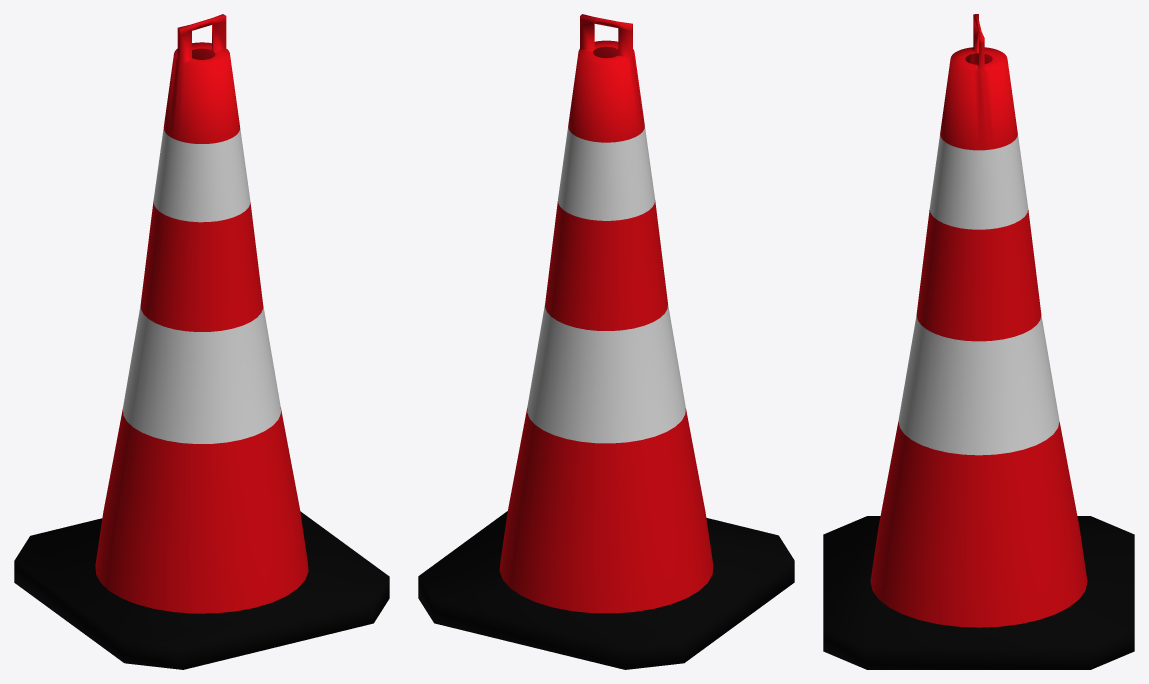
The model's file is pontoon.fbx.
The picture shows the model from 3 angles, left to right: view 1: azimuth 30°, elevation 25°; view 2: azimuth 150°, elevation 25°; view 3: azimuth 270°, elevation 25°; orthographic projection.
Parts seen in each view (by area): view 1: Plane; view 2: Plane; view 3: Plane.
Boxes of the visible parts, <box> form: Plane: <box>14,14,389,669</box>; Plane: <box>418,14,794,669</box>; Plane: <box>823,14,1134,669</box>.
Size of the model in its own units: 200 by 410 by 200.
